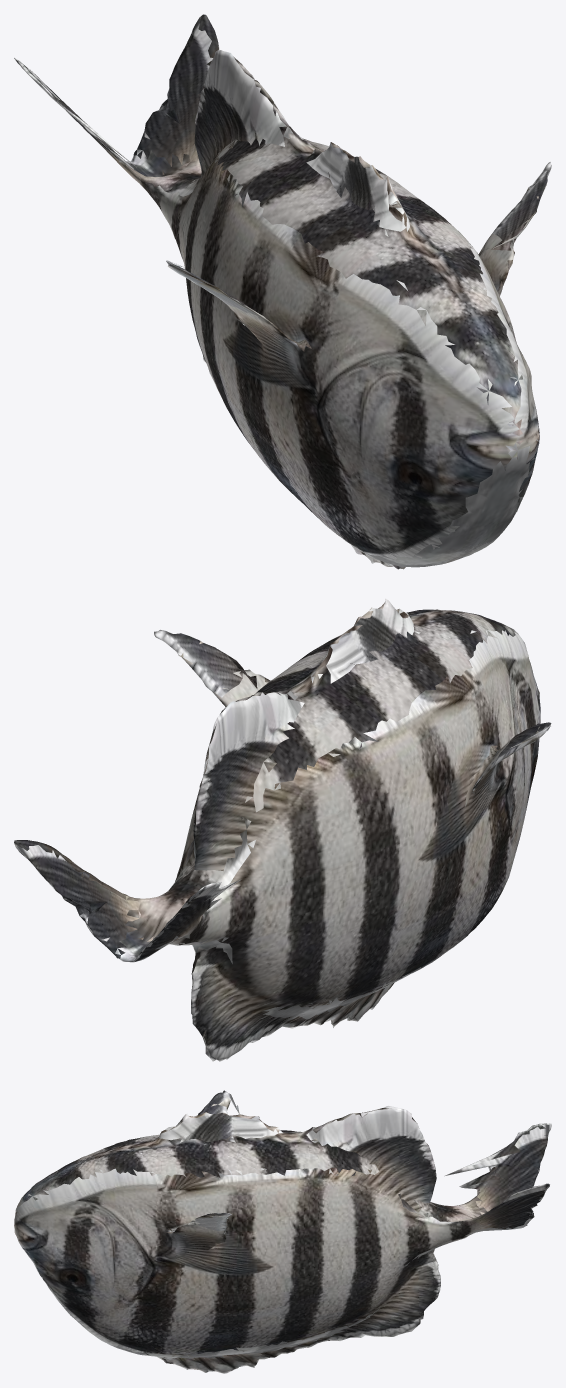
File: fish_knifejaw.glb
The picture shows the model from 3 angles, top to bottom: view 1: azimuth 30°, elevation 25°; view 2: azimuth 150°, elevation 25°; view 3: azimuth 270°, elevation 25°; orthographic projection. The views are drawn at different scales.
Visible parts, largest first — view 1: orient; view 2: orient; view 3: orient.
Boxes of the visible parts, left/top/right/bottom form: orient: left=14, top=14, right=551, bottom=569; orient: left=14, top=598, right=551, bottom=1061; orient: left=14, top=1090, right=551, bottom=1373.
Size of the model in its own units: 1.06 by 1.07 by 1.94.
1 material, 1 textured.
